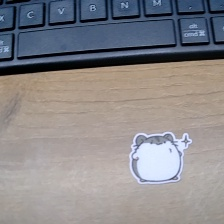mouse: (126, 130, 193, 185)
